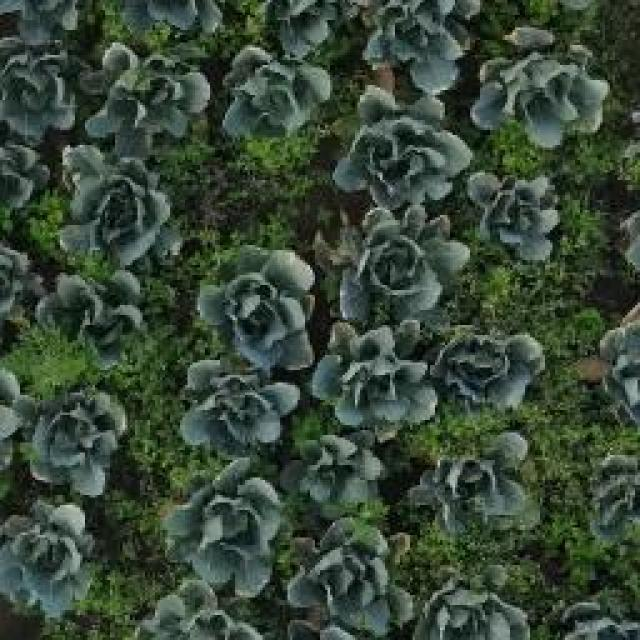cabbage: (473, 26, 612, 148), (332, 202, 468, 325), (341, 86, 474, 204), (62, 146, 184, 268), (196, 242, 316, 366), (312, 312, 436, 429), (290, 520, 418, 632), (170, 465, 282, 582), (412, 430, 536, 532), (82, 46, 212, 142), (23, 386, 131, 500), (34, 271, 153, 373), (0, 504, 105, 619), (427, 318, 550, 416), (176, 355, 301, 450), (219, 44, 333, 140), (464, 164, 564, 268), (363, 0, 475, 88), (286, 424, 386, 513), (0, 31, 80, 138), (418, 577, 532, 640), (585, 448, 640, 540)
